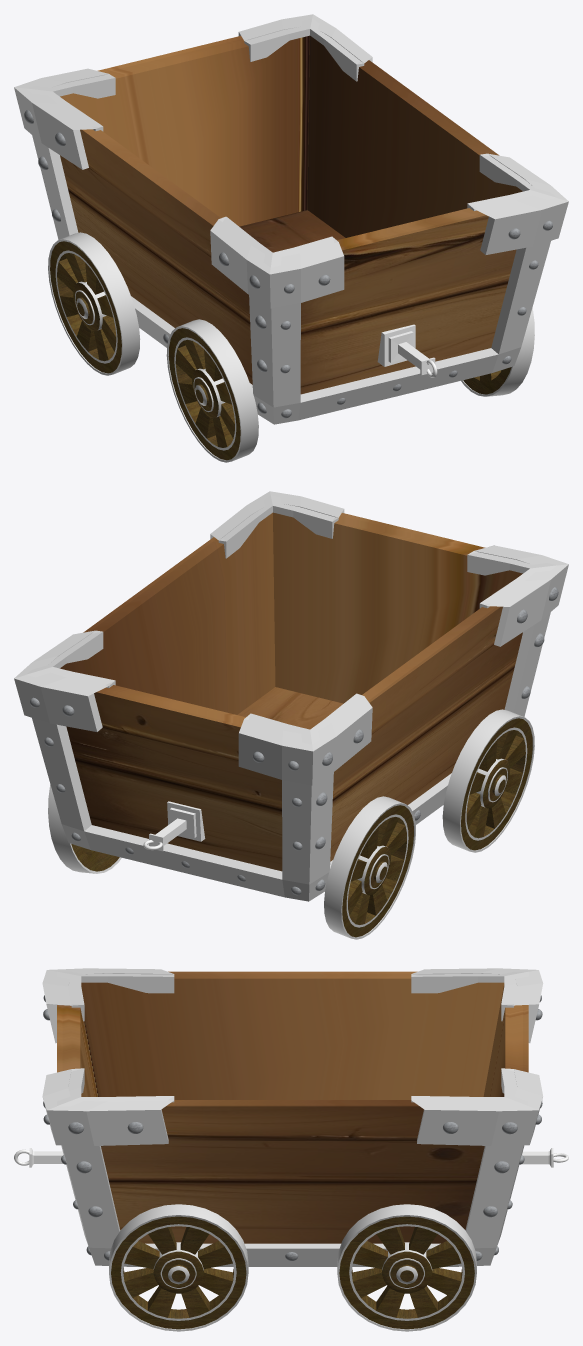
Rendered from wagon_v2.fbx.
The picture shows the model from 3 angles, top to bottom: view 1: azimuth 30°, elevation 25°; view 2: azimuth 150°, elevation 25°; view 3: azimuth 270°, elevation 25°; orthographic projection. The views are drawn at different scales.
Visible parts, largest first — view 1: Cube, Circle.001, Circle.002, Circle.004; view 2: Cube, Circle.002, Circle.001, Circle.003; view 3: Cube, Circle.003, Circle.004.
Part boxes in pixels (box(x1,y1,x2,y2)): Cube: box(14, 14, 568, 424); Circle.001: box(48, 232, 140, 375); Circle.002: box(166, 319, 258, 462); Circle.004: box(461, 307, 534, 396); Cube: box(14, 491, 568, 901); Circle.002: box(442, 709, 534, 852); Circle.001: box(324, 796, 415, 939); Circle.003: box(48, 784, 121, 873); Cube: box(14, 968, 568, 1266); Circle.003: box(337, 1204, 476, 1331); Circle.004: box(109, 1204, 248, 1331).
Bounding box in the file's own units: 418 × 308 × 671.
5 materials, 3 textured.
